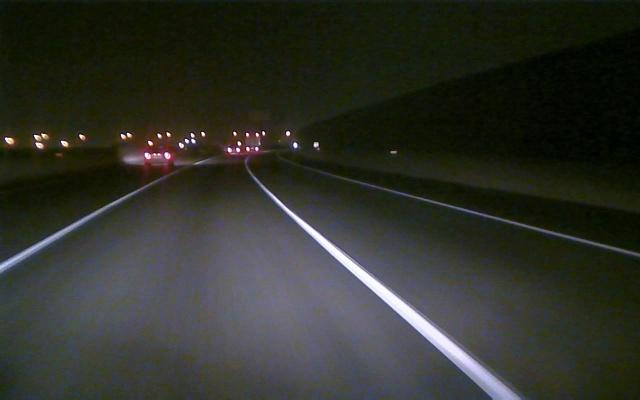lane: (256, 182, 528, 399), (346, 177, 640, 258), (2, 188, 143, 272)
